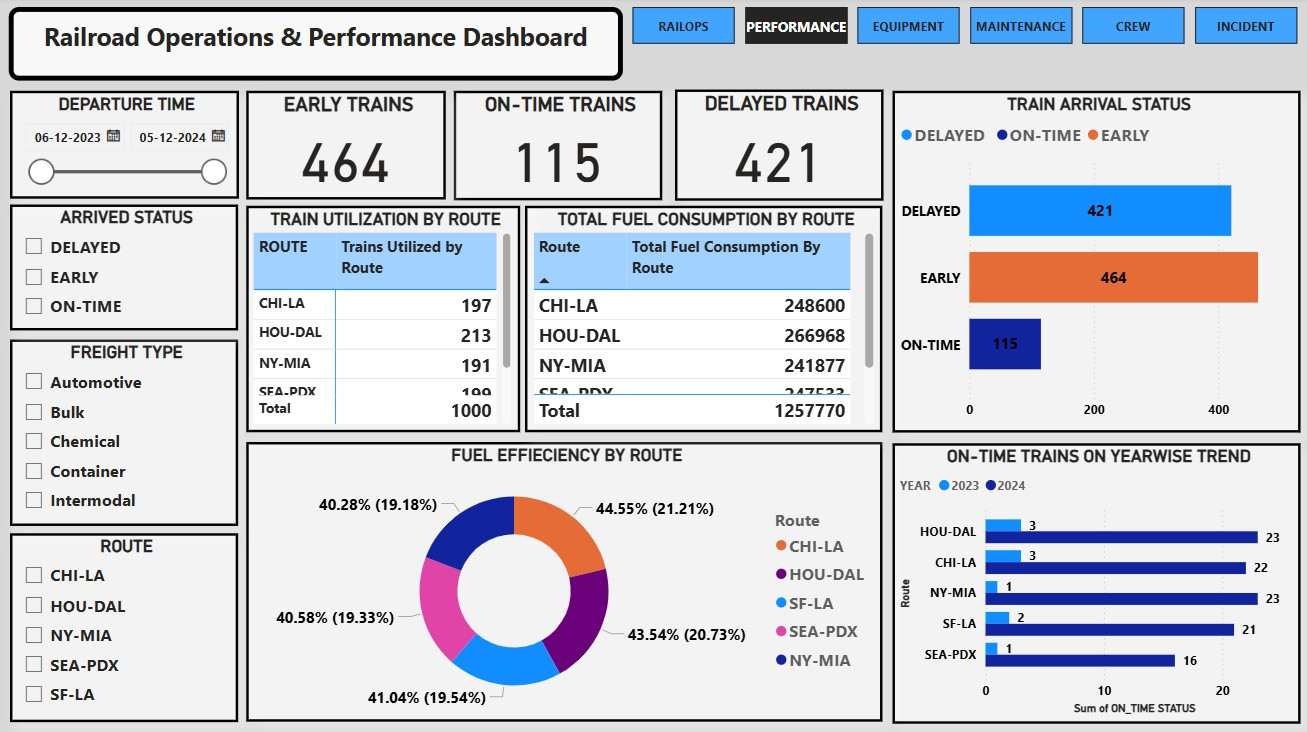

The dashboard page shown, as its layout file describes it:
{"tool":"powerbi","page":{"name":"PERFORMANCE","canvas":[1280,720],"ordinal":1},"visuals":[{"type":"textbox","box":[8.4,9.7,600.8,72.4],"z":0},{"type":"slicer","title":"FREIGHT TYPE","fields":{"Values":["Train_Operations.Freight_Type"]},"box":[9.9,335.1,223.4,182.5],"z":1000},{"type":"slicer","title":"DEPARTURE TIME","fields":{"Values":["Train_Operations.Departure_Time"]},"box":[9.9,91.9,223.6,105.6],"z":2000},{"type":"slicer","title":"ARRIVED STATUS","fields":{"Values":["Train_Operations.ARRIVAL_STATUS"]},"box":[9.9,203.6,223.4,122.9],"z":3000},{"type":"card","title":"ON-TIME TRAINS","fields":{"Values":["Sum(Train_Operations.ARRIVAL_STATUS_NO)"]},"box":[444,91.7,203.9,107.4],"z":4000},{"type":"card","title":"DELAYED TRAINS","fields":{"Values":["Sum(Train_Operations.DELAYED_STATUS)"]},"box":[659.9,90.5,203.9,108.6],"z":5000},{"type":"card","title":"EARLY TRAINS","fields":{"Values":["Sum(Train_Operations.EARLY)"]},"box":[241.3,91.7,195.4,106.2],"z":6000},{"type":"slicer","title":"ROUTE","fields":{"Values":["Train_Operations.Route"]},"box":[9.9,525.1,223.4,185],"z":7000},{"type":"pivotTable","title":"TRAIN UTILIZATION BY ROUTE","fields":{"Rows":["Train_Operations.Route"],"Values":["Train_Operations.Train_Utilization_By_Route"]},"box":[241.2,203.9,268,221.9],"z":8000},{"type":"donutChart","title":"FUEL EFFIECIENCY BY ROUTE","fields":{"Category":["Train_Operations.Route"],"Y":["Train_Operations.Fuel_Efficiency_By_Route"]},"box":[241.3,435.5,622.5,273.9],"z":9000},{"type":"tableEx","title":"TOTAL FUEL CONSUMPTION BY ROUTE","fields":{"Values":["Train_Operations.Route","Train_Operations.Total_Fuel_Consumption_By_Route"]},"box":[513.9,203.9,349.9,222],"z":10000},{"type":"barChart","title":"TRAIN ARRIVAL STATUS","fields":{"Y":["Sum(Train_Operations.DELAYED_STATUS)","Sum(Train_Operations.ON_TIME STATUS)","Sum(Train_Operations.EARLY)"],"Category":["Train_Operations.ARRIVED_STATUS"]},"box":[873.5,91.7,399.3,334.2],"z":11000},{"type":"clusteredBarChart","title":"ON-TIME TRAINS ON YEARWISE TREND","fields":{"Category":["Train_Operations.Route"],"Series":["Dim_Date.YEAR"],"Y":["Sum(Train_Operations.ON_TIME STATUS)"]},"box":[873,436,399,274],"z":12000},{"type":"pageNavigator","box":[618.2,10.2,653.1,36.4],"z":13000}]}

Visuals, with their boxes in screenshot pixels (x1, y1, x2, y2), scaled from the page's 1280x720 canvas onto the 1307x732 screenshot:
textbox: 9/10/622/83
"FREIGHT TYPE" slicer: 10/341/238/526
"DEPARTURE TIME" slicer: 10/93/238/201
"ARRIVED STATUS" slicer: 10/207/238/332
"ON-TIME TRAINS" card: 453/93/662/202
"DELAYED TRAINS" card: 674/92/882/202
"EARLY TRAINS" card: 246/93/446/201
"ROUTE" slicer: 10/534/238/722
"TRAIN UTILIZATION BY ROUTE" pivotTable: 246/207/520/433
"FUEL EFFIECIENCY BY ROUTE" donutChart: 246/443/882/721
"TOTAL FUEL CONSUMPTION BY ROUTE" tableEx: 525/207/882/433
"TRAIN ARRIVAL STATUS" barChart: 892/93/1300/433
"ON-TIME TRAINS ON YEARWISE TREND" clusteredBarChart: 891/443/1299/722
pageNavigator: 631/10/1298/47
